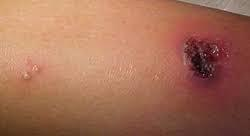Spider: (174, 32, 231, 92)
